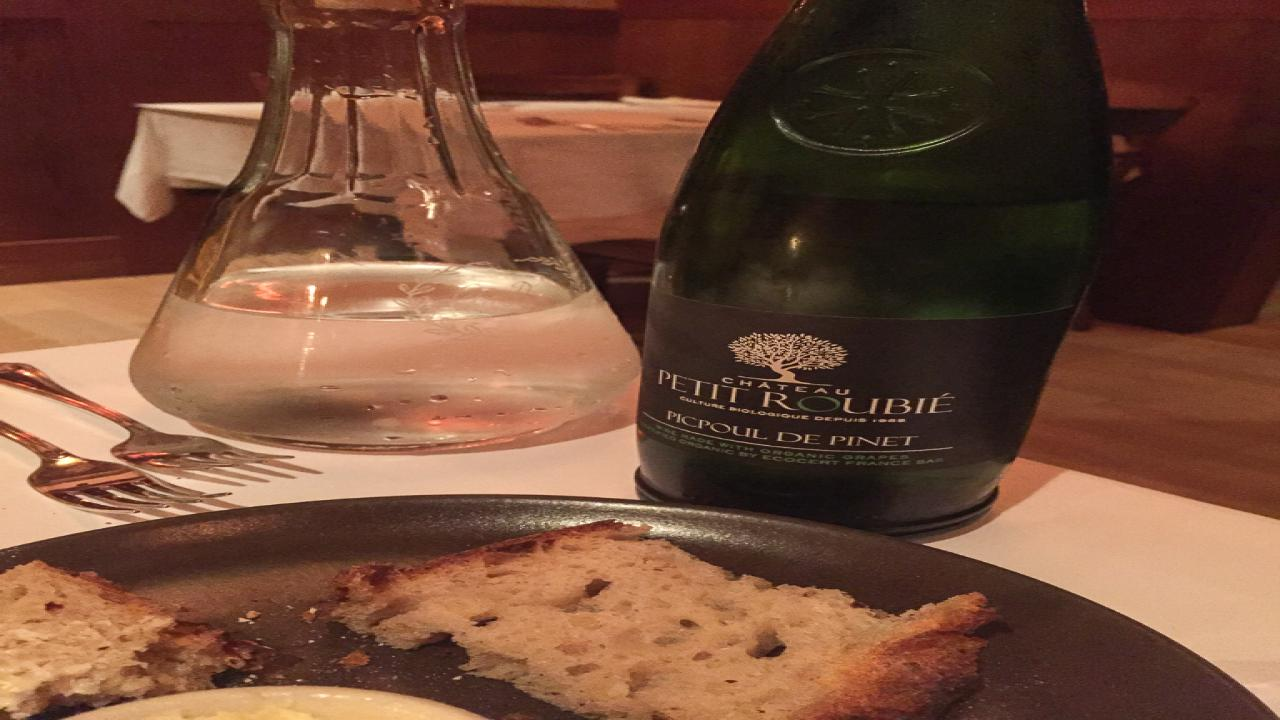fork: (0, 357, 300, 474), (0, 411, 243, 517)
